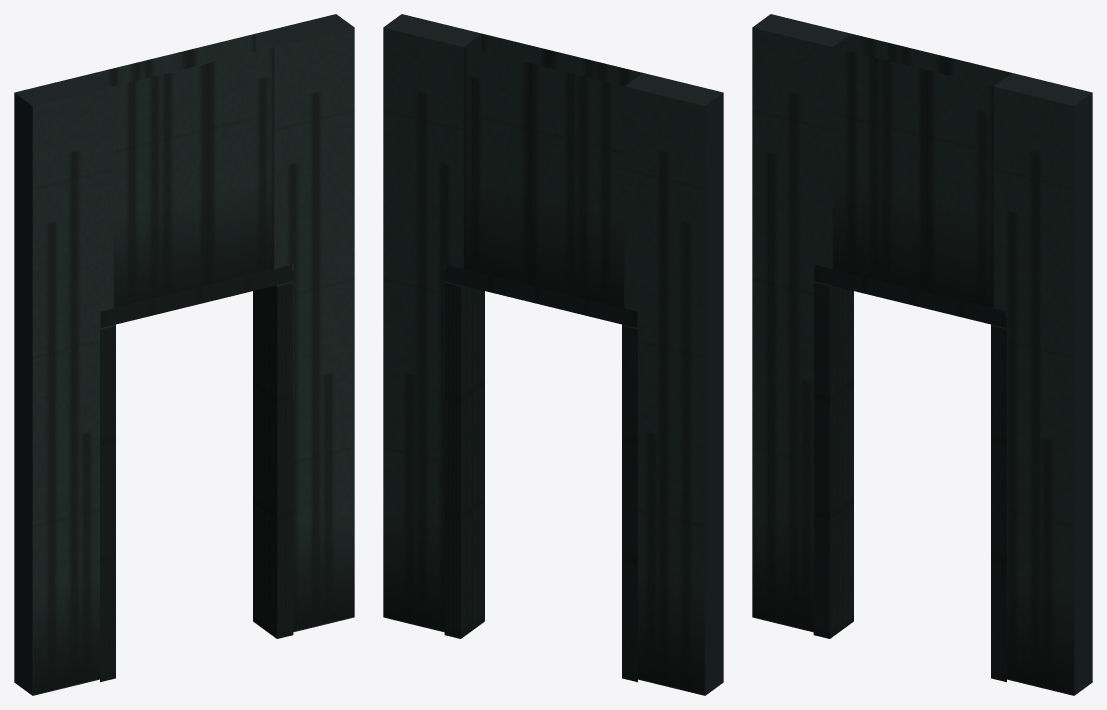
The model's file is SM_Machine_Wall_Door_200x350.fbx.
3 renders of one model, left to right at view 1: azimuth 30°, elevation 25°; view 2: azimuth 150°, elevation 25°; view 3: azimuth 330°, elevation 25°, orthographic.
Visible parts, largest first — view 1: SM_Machine_Wall_Door_200x350.001; view 2: SM_Machine_Wall_Door_200x350.001; view 3: SM_Machine_Wall_Door_200x350.001.
Boxes of the visible parts, x1=… form: SM_Machine_Wall_Door_200x350.001: x1=14, y1=14, x2=354, y2=695; SM_Machine_Wall_Door_200x350.001: x1=383, y1=14, x2=723, y2=695; SM_Machine_Wall_Door_200x350.001: x1=752, y1=14, x2=1092, y2=695.
Bounding box in the file's own units: 2 × 3.5 × 0.26.
